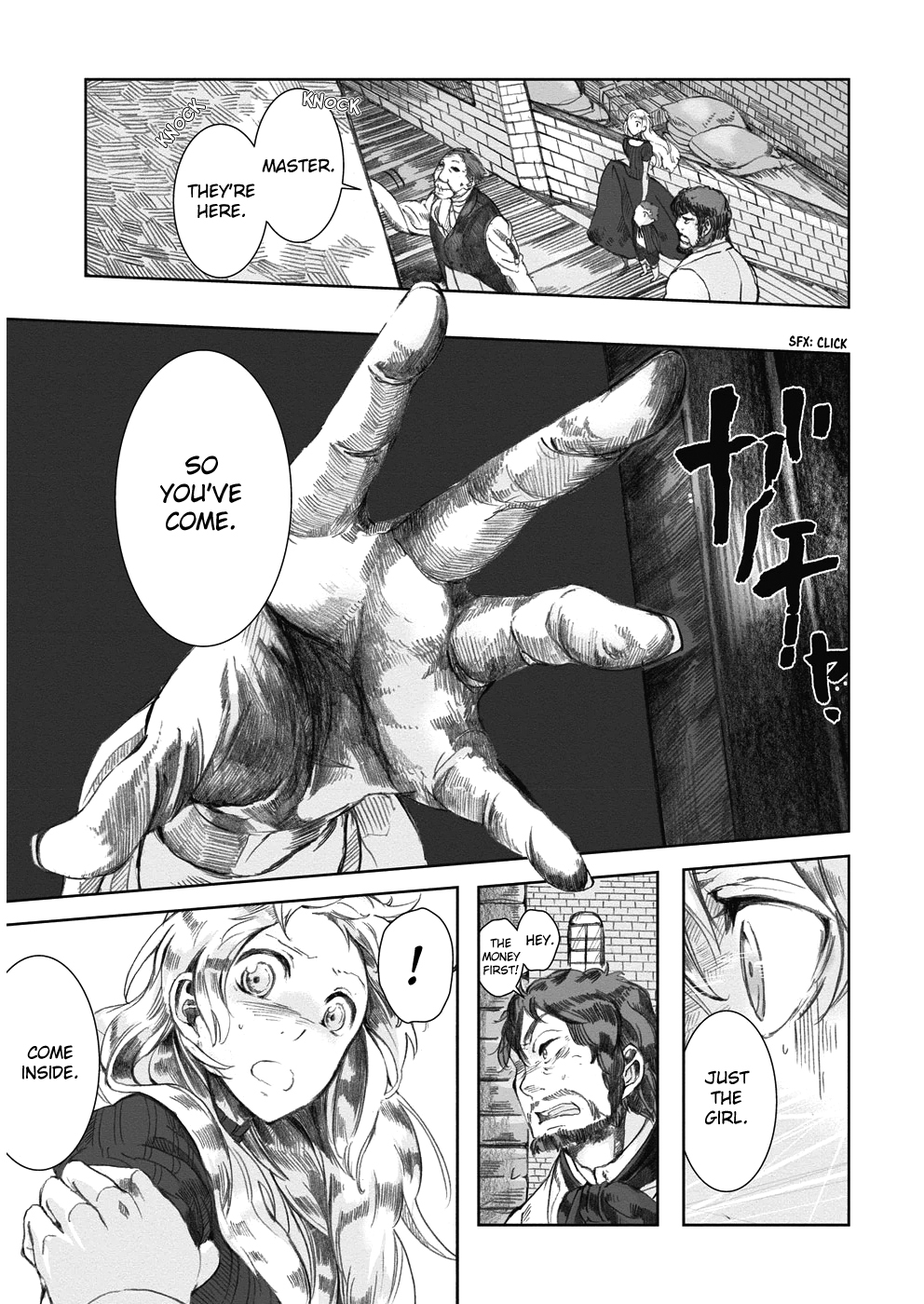bubble: (114, 349, 293, 648), (5, 955, 100, 1171), (683, 1011, 776, 1192), (254, 88, 360, 242), (173, 123, 266, 278), (378, 907, 453, 1023), (479, 918, 524, 997), (517, 910, 561, 971)
